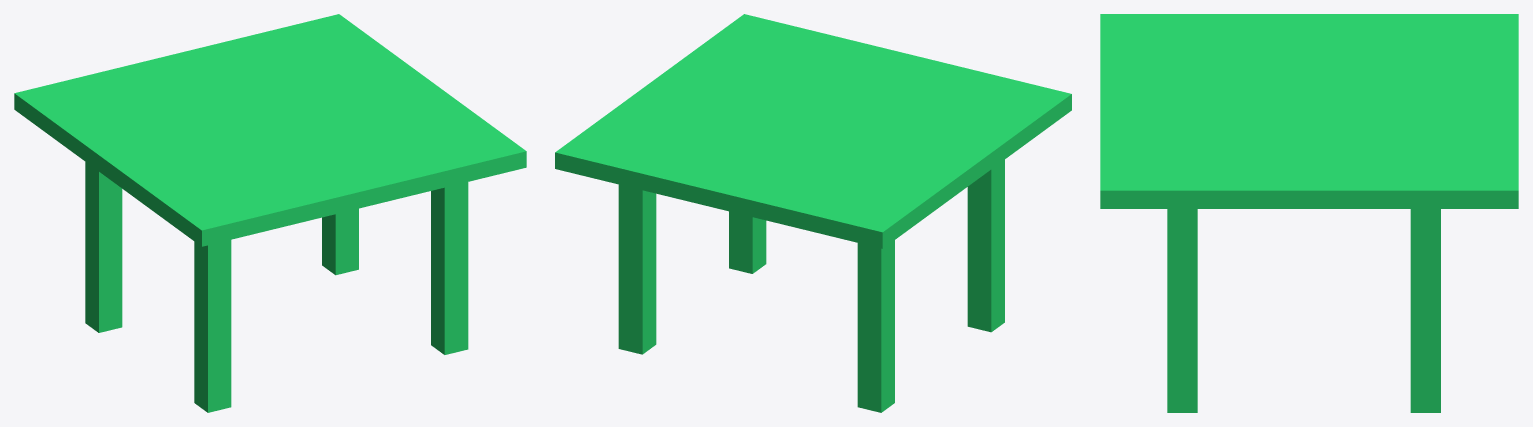
The model's file is table_mood.glb.
The picture shows the model from 3 angles, left to right: view 1: azimuth 30°, elevation 25°; view 2: azimuth 150°, elevation 25°; view 3: azimuth 270°, elevation 25°; orthographic projection. The views are drawn at different scales.
Parts seen in each view (by area): view 1: Table_made_by_mood; view 2: Table_made_by_mood; view 3: Table_made_by_mood.
Boxes of the visible parts, box(x1,y1,x2,y2) form: Table_made_by_mood: box(14, 14, 526, 412); Table_made_by_mood: box(555, 14, 1071, 412); Table_made_by_mood: box(1100, 14, 1518, 412).
Size of the model in its own units: 4.94 by 3.1 by 4.94.
